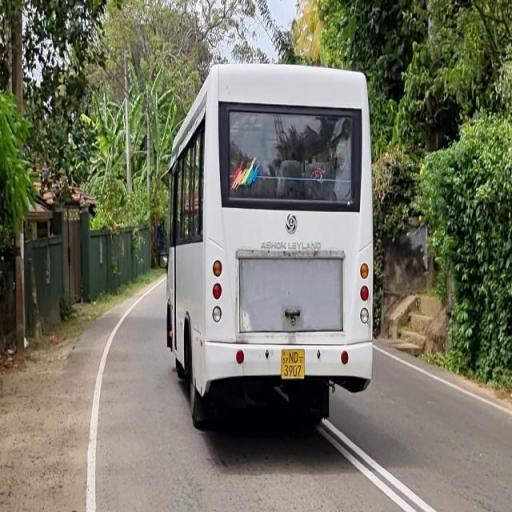double_white_line: (316, 418, 438, 510)
